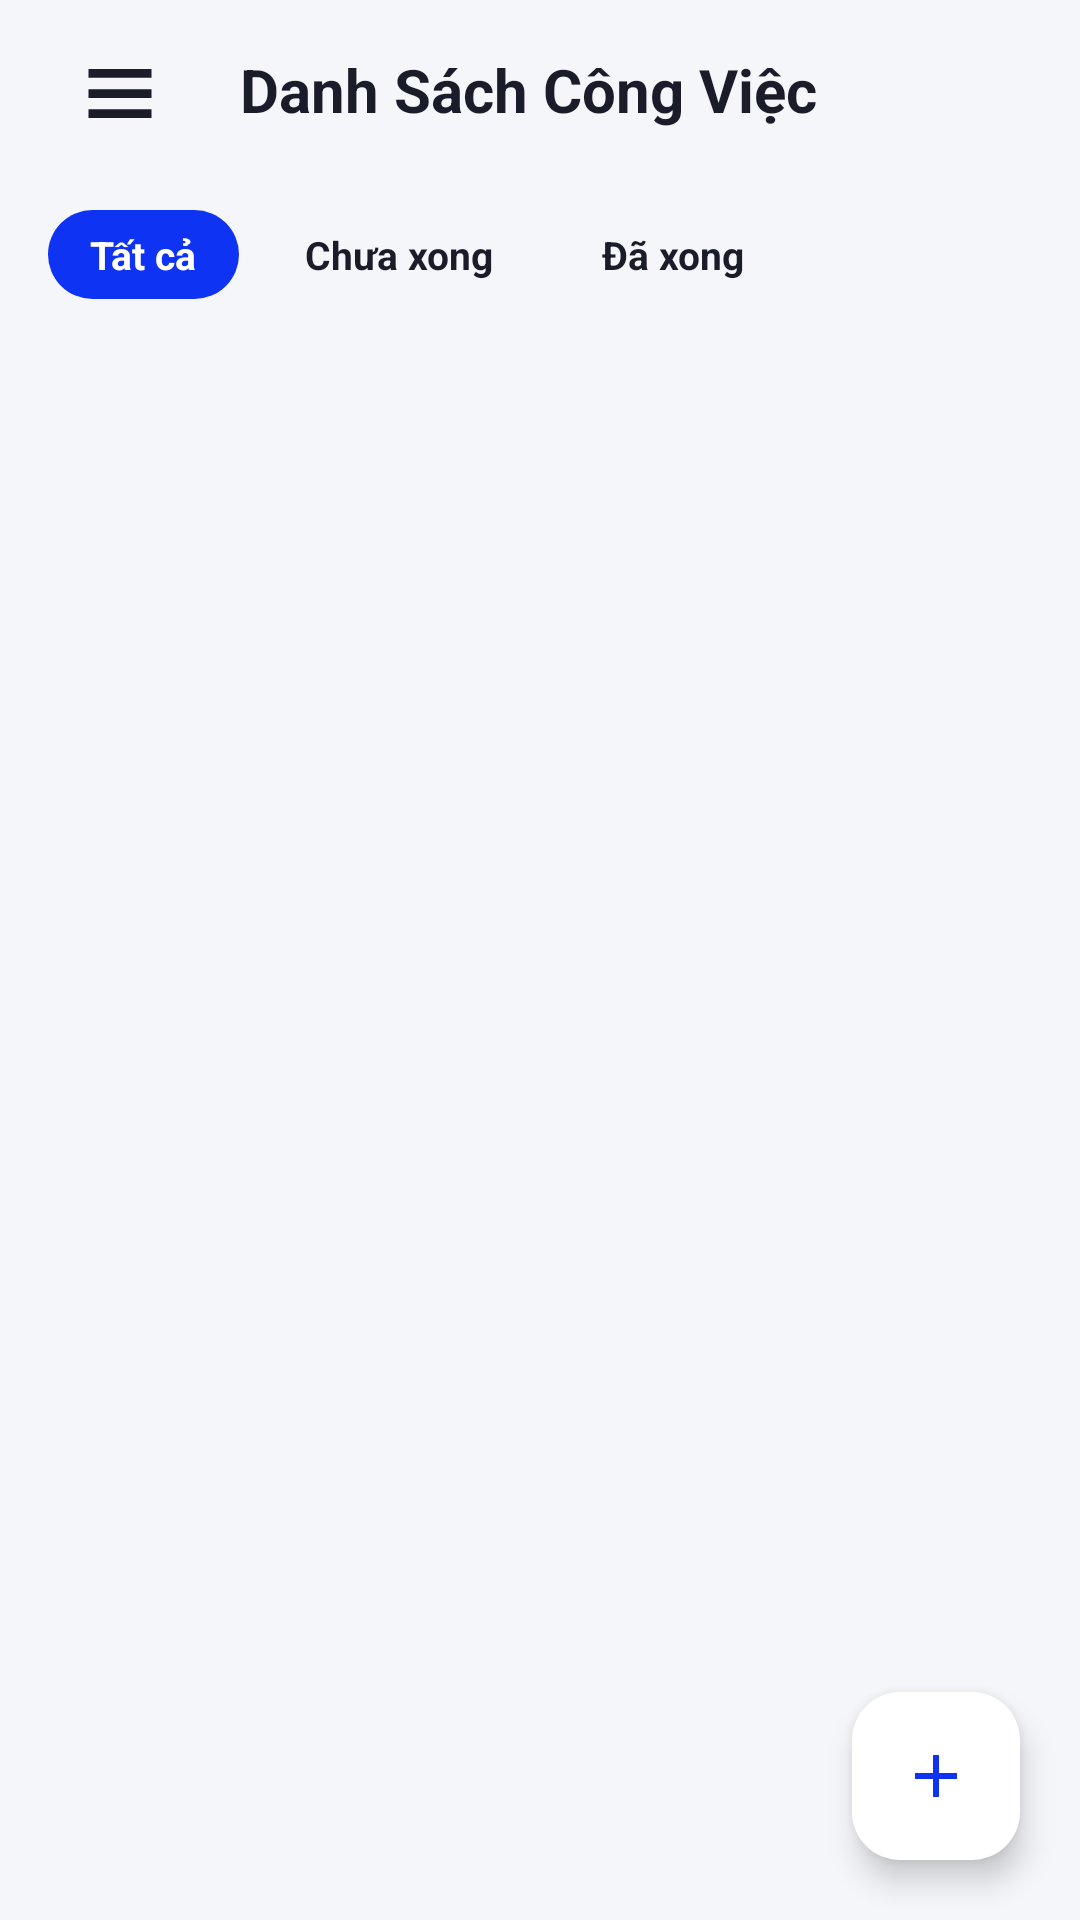

Icon bounding boxes for this 1080x1920 phone screenshot, format (x1, y1, x2, y2):
Thêm công việc: (852, 1692, 1020, 1860)
